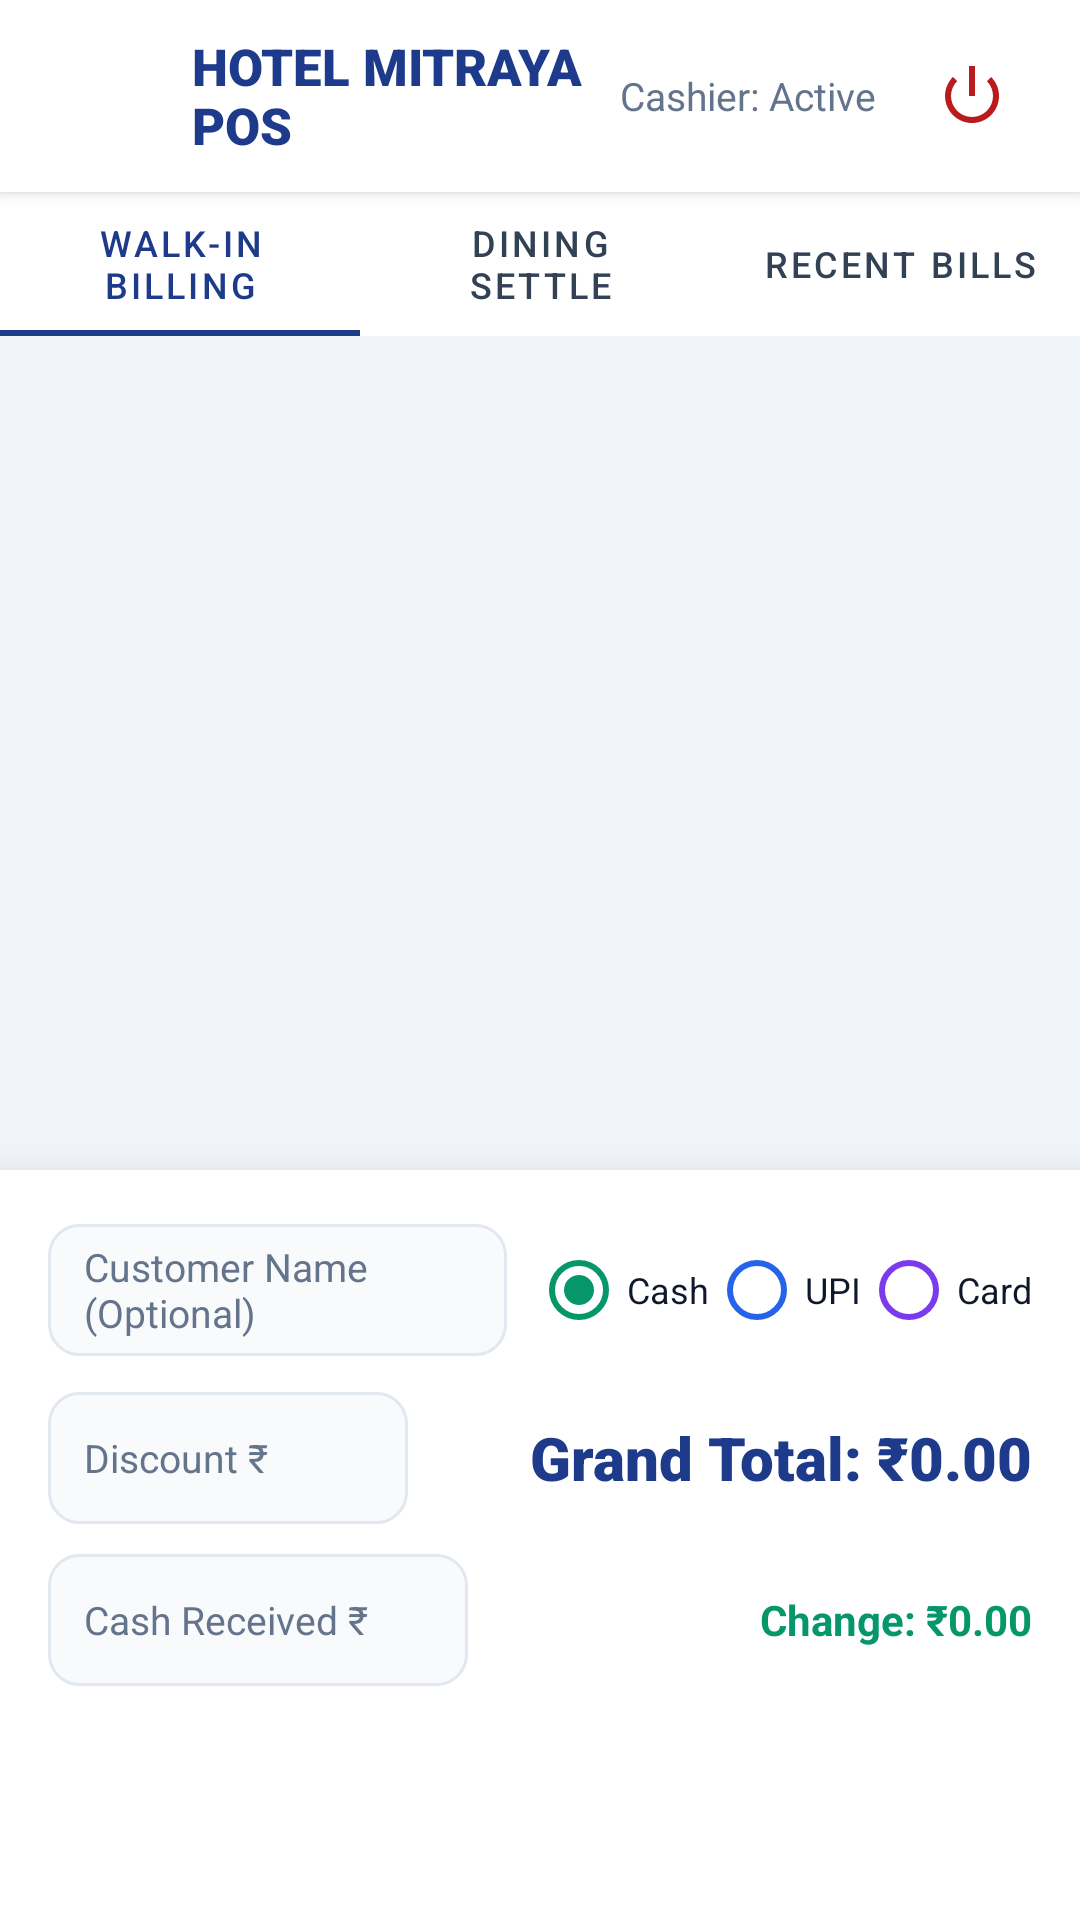

Where icons sit on this 1080 x 1920 app screen, as (x1, y1, x2, y2):
lock power off: (945, 66, 999, 123)
